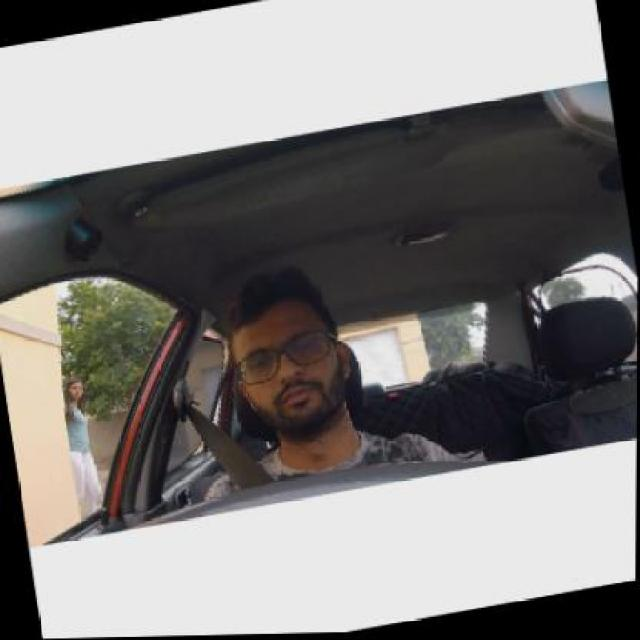person: (212, 266, 362, 440)
